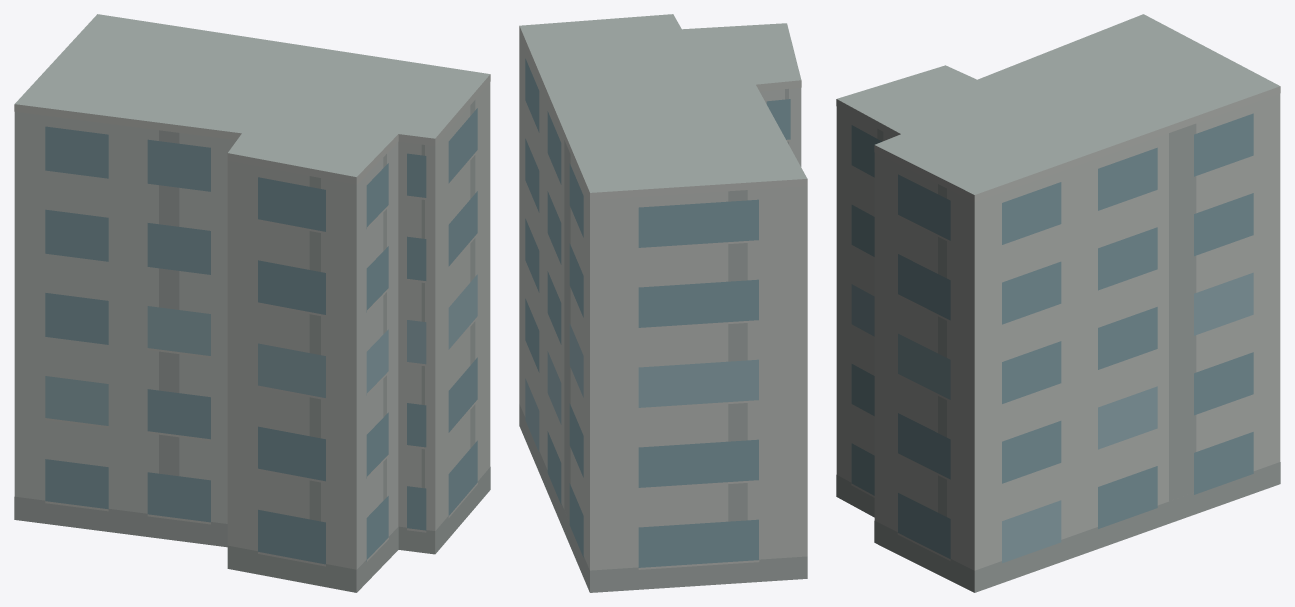
Rendered from survey-upis-32627018.glb.
3 views of the same model, side by side, from view 1: azimuth 30°, elevation 25°; view 2: azimuth 150°, elevation 25°; view 3: azimuth 270°, elevation 25° (orthographic). The views are drawn at different scales.
Visible parts, largest first — view 1: survey-upis-32627018.tmp; view 2: survey-upis-32627018.tmp; view 3: survey-upis-32627018.tmp.
Boxes of the visible parts, left/top/right/bottom form: survey-upis-32627018.tmp: left=14, top=14, right=490, bottom=592; survey-upis-32627018.tmp: left=519, top=14, right=807, bottom=592; survey-upis-32627018.tmp: left=836, top=14, right=1280, bottom=592.
Size of the model in its own units: 12.99 by 13.3 by 13.46.
